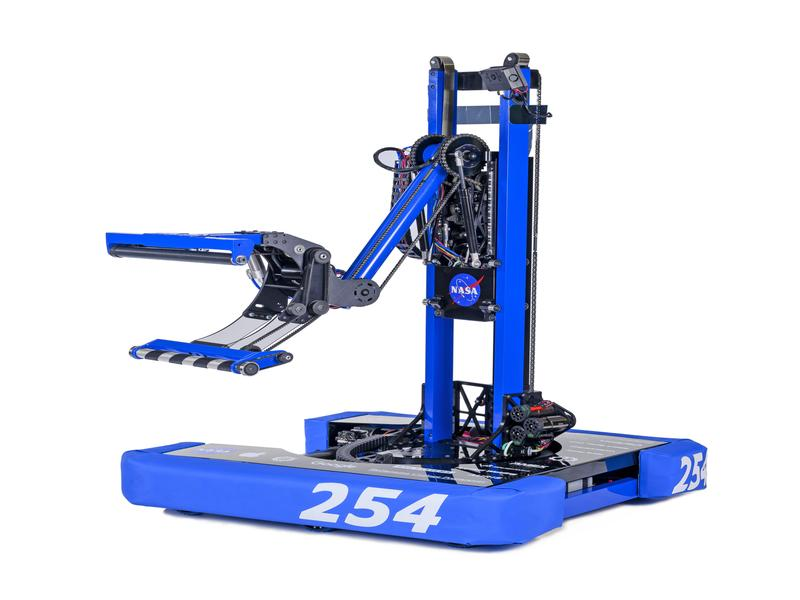robot: (120, 34, 712, 552)
